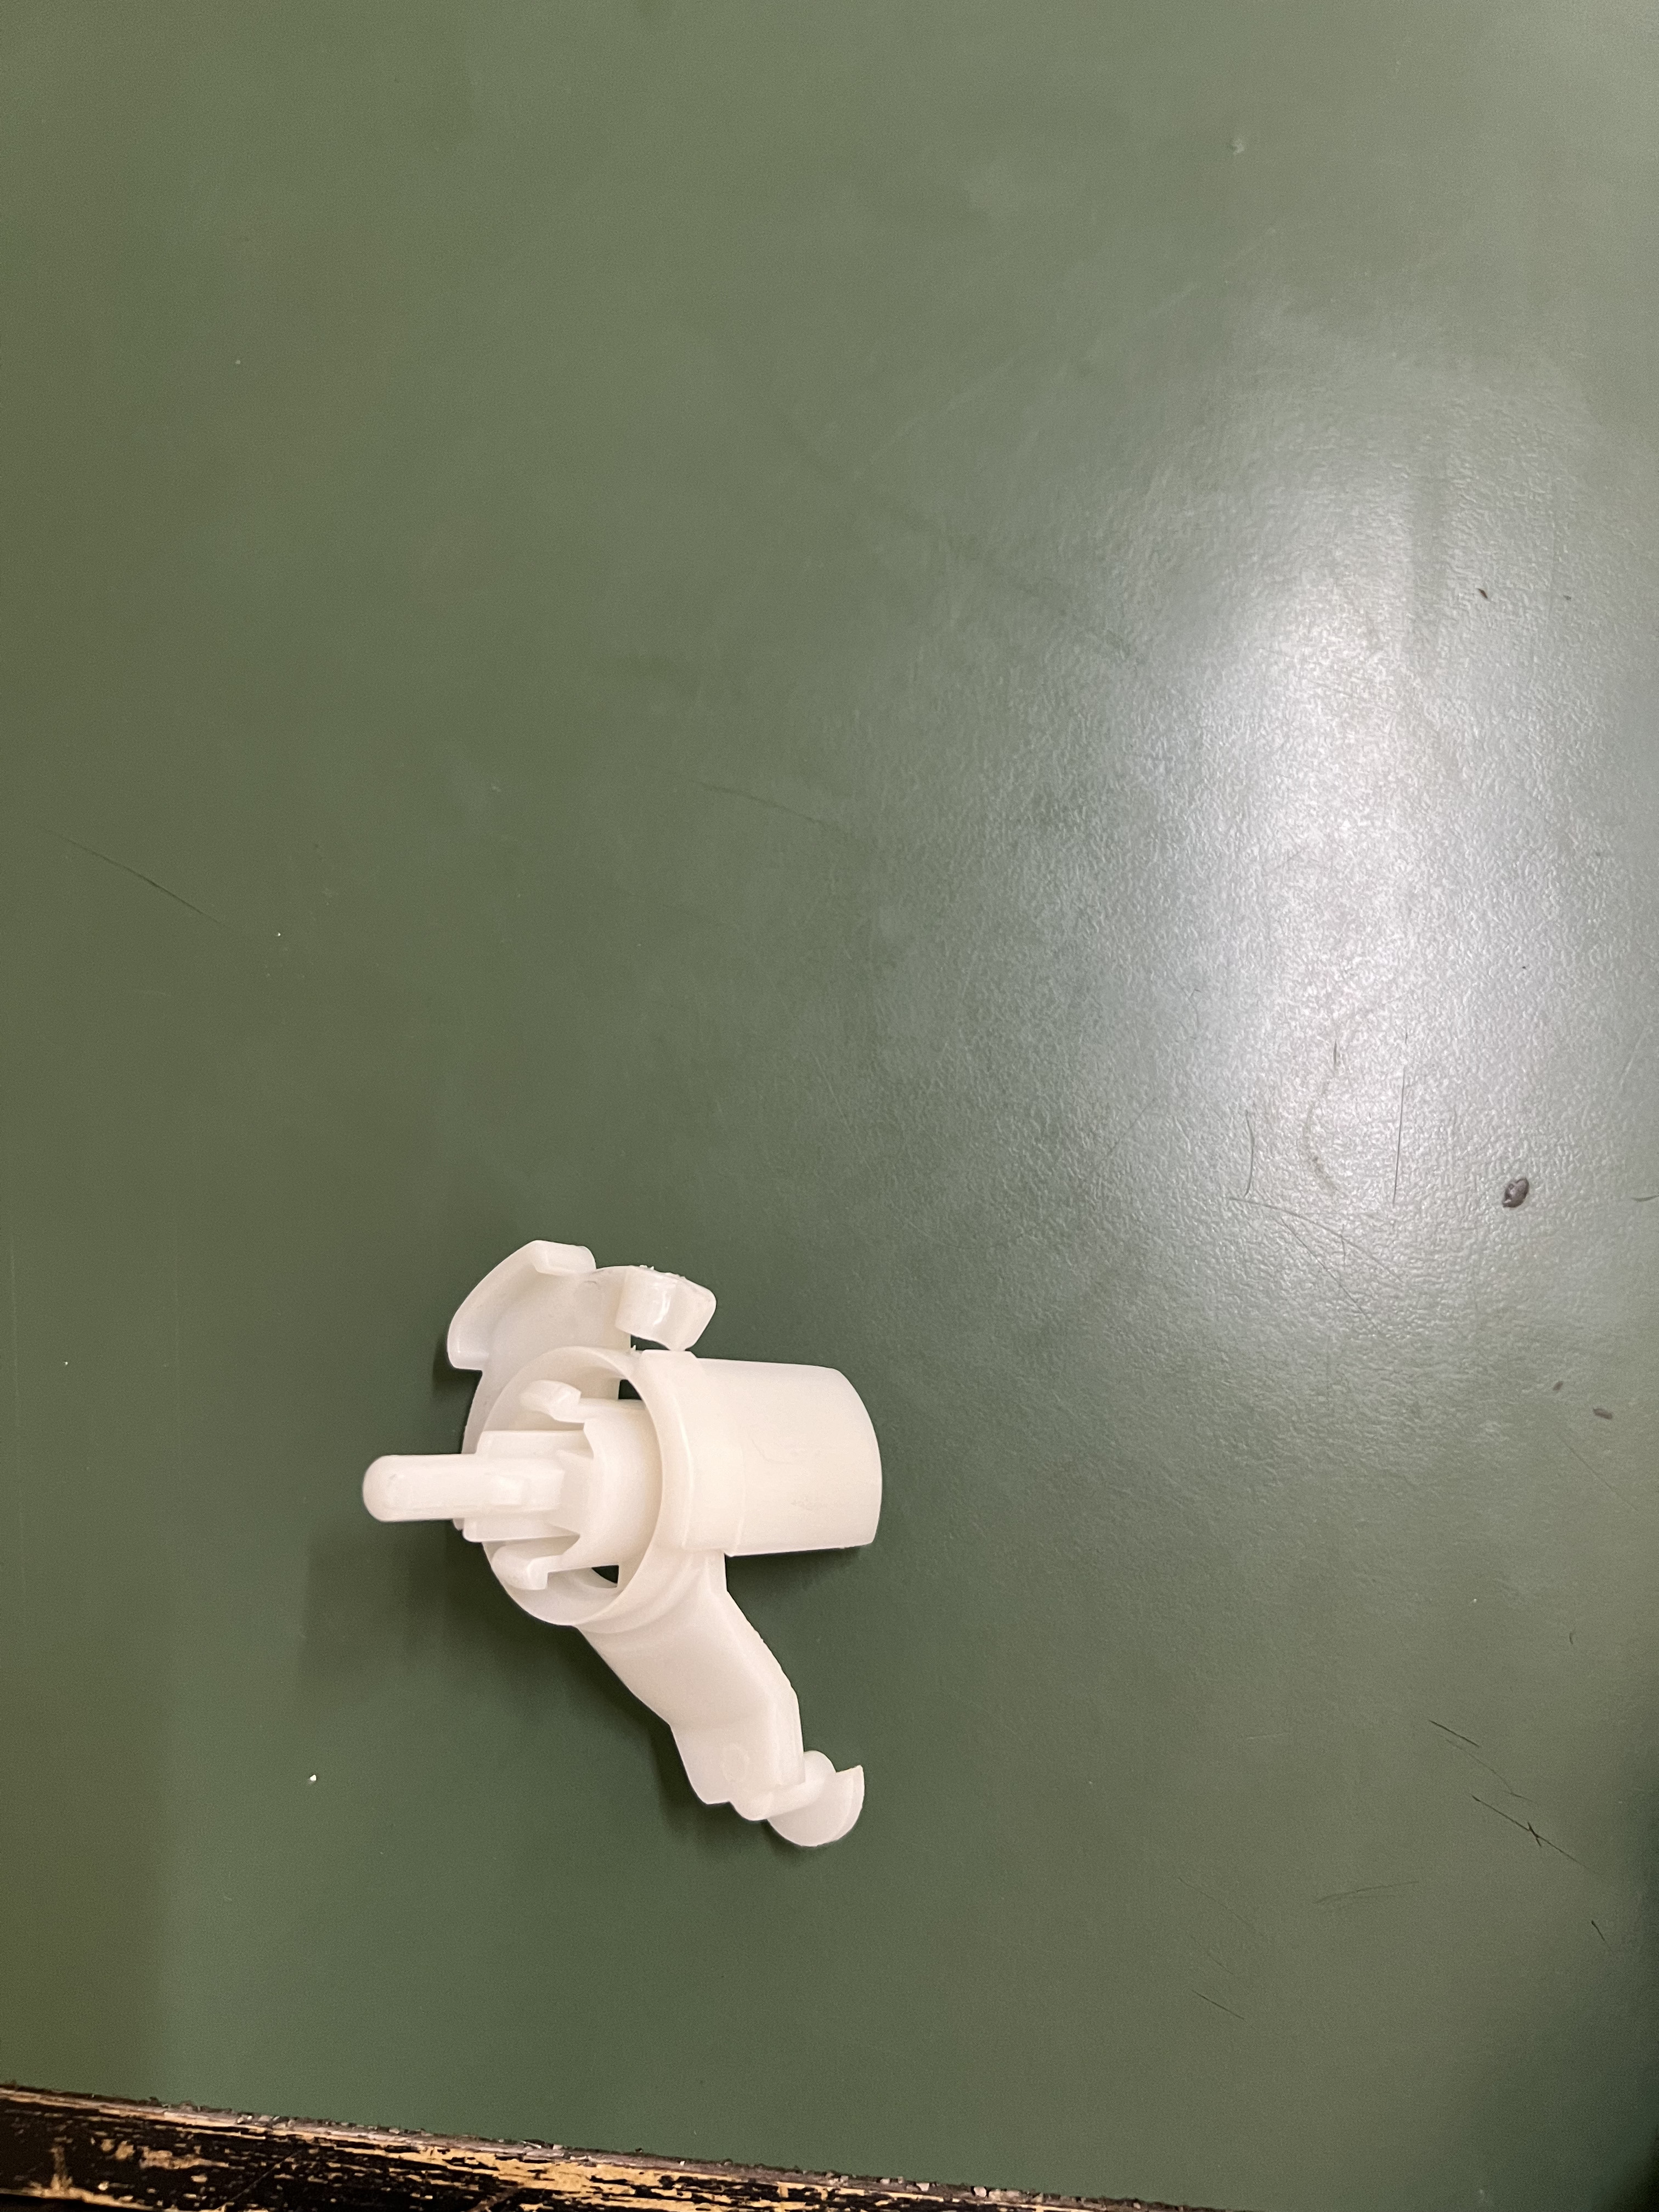drain_lever: (362, 1214, 957, 1855)
